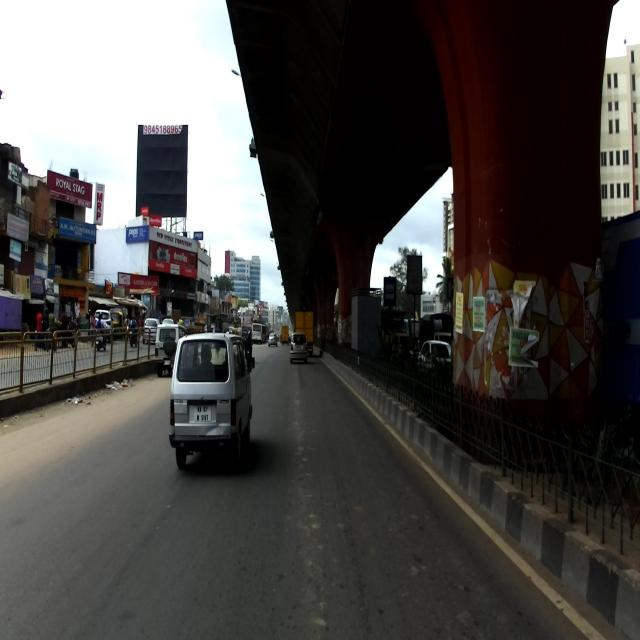car: (168, 332, 256, 474)
